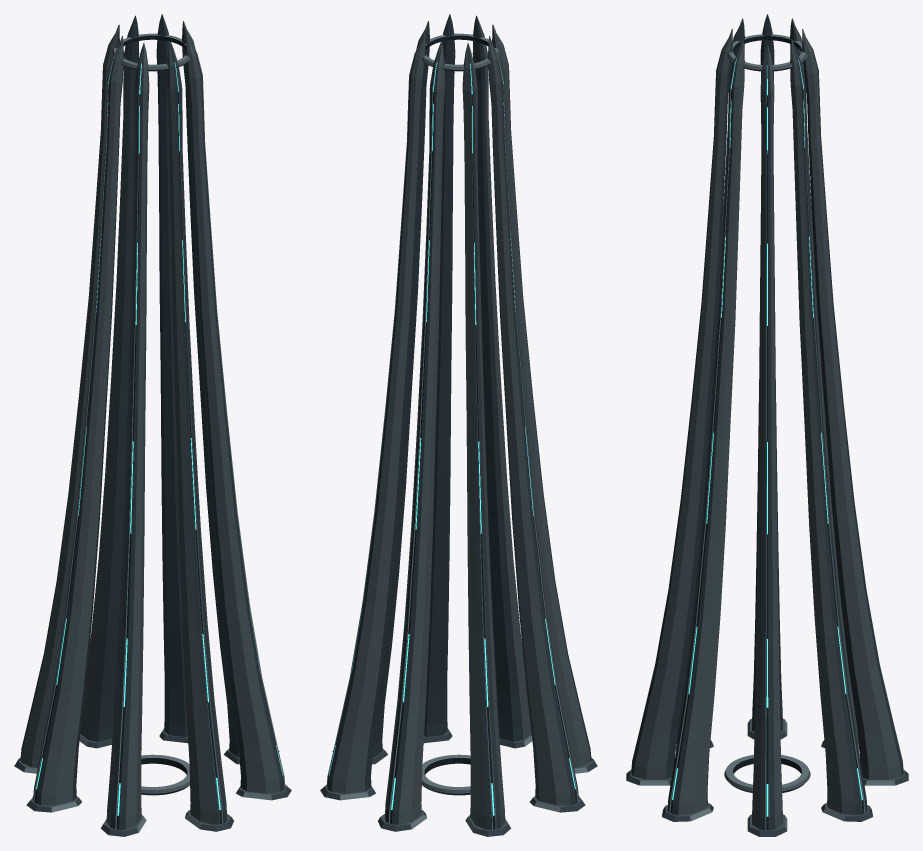
The model's file is Surface_Beam_Spire_Godot.glb.
3 views of the same model, side by side, from view 1: azimuth 30°, elevation 25°; view 2: azimuth 150°, elevation 25°; view 3: azimuth 270°, elevation 25° (orthographic).
Parts seen in each view (by area): view 1: Arm_05_Faceted_Monolith, Arm_08_Faceted_Monolith, Arm_07_Faceted_Monolith, Arm_06_Faceted_Monolith, Arm_03_Faceted_Monolith, Arm_02_Faceted_Monolith, Arm_04_Faceted_Monolith, Arm_01_Faceted_Monolith, Ground_Throat_150m_Clear, Crown_Open_Annular_Focus, Arm_06_Recessed_Teal_Channels, Arm_07_Recessed_Teal_Channels; view 2: Arm_05_Faceted_Monolith, Arm_02_Faceted_Monolith, Arm_03_Faceted_Monolith, Arm_04_Faceted_Monolith, Arm_07_Faceted_Monolith, Arm_08_Faceted_Monolith, Arm_06_Faceted_Monolith, Arm_01_Faceted_Monolith, Ground_Throat_150m_Clear, Crown_Open_Annular_Focus, Arm_04_Recessed_Teal_Channels, Arm_03_Recessed_Teal_Channels; view 3: Arm_03_Faceted_Monolith, Arm_07_Faceted_Monolith, Arm_02_Faceted_Monolith, Arm_08_Faceted_Monolith, Arm_01_Faceted_Monolith, Arm_05_Faceted_Monolith, Arm_04_Faceted_Monolith, Arm_06_Faceted_Monolith, Ground_Throat_150m_Clear, Crown_Open_Annular_Focus.
Boxes of the visible parts, x1=… form: Arm_05_Faceted_Monolith: x1=33, y1=36, x2=123, y2=805; Arm_08_Faceted_Monolith: x1=186, y1=32, x2=285, y2=793; Arm_07_Faceted_Monolith: x1=166, y1=41, x2=226, y2=824; Arm_06_Faceted_Monolith: x1=106, y1=43, x2=149, y2=829; Arm_03_Faceted_Monolith: x1=80, y1=15, x2=139, y2=741; Arm_02_Faceted_Monolith: x1=156, y1=14, x2=187, y2=736; Arm_04_Faceted_Monolith: x1=20, y1=24, x2=119, y2=767; Arm_01_Faceted_Monolith: x1=182, y1=21, x2=239, y2=757; Ground_Throat_150m_Clear: x1=141, y1=754, x2=189, y2=795; Crown_Open_Annular_Focus: x1=112, y1=33, x2=190, y2=71; Arm_06_Recessed_Teal_Channels: x1=117, y1=63, x2=141, y2=815; Arm_07_Recessed_Teal_Channels: x1=174, y1=62, x2=220, y2=809; Arm_05_Faceted_Monolith: x1=488, y1=36, x2=578, y2=805; Arm_02_Faceted_Monolith: x1=326, y1=32, x2=425, y2=793; Arm_03_Faceted_Monolith: x1=385, y1=41, x2=445, y2=824; Arm_04_Faceted_Monolith: x1=462, y1=43, x2=505, y2=829; Arm_07_Faceted_Monolith: x1=472, y1=15, x2=531, y2=741; Arm_08_Faceted_Monolith: x1=424, y1=14, x2=455, y2=736; Arm_06_Faceted_Monolith: x1=492, y1=24, x2=591, y2=767; Arm_01_Faceted_Monolith: x1=372, y1=21, x2=429, y2=757; Ground_Throat_150m_Clear: x1=422, y1=754, x2=470, y2=795; Crown_Open_Annular_Focus: x1=421, y1=33, x2=499, y2=71; Arm_04_Recessed_Teal_Channels: x1=470, y1=63, x2=494, y2=815; Arm_03_Recessed_Teal_Channels: x1=391, y1=62, x2=437, y2=809; Arm_03_Faceted_Monolith: x1=802, y1=29, x2=903, y2=779; Arm_07_Faceted_Monolith: x1=631, y1=29, x2=732, y2=779; Arm_02_Faceted_Monolith: x1=790, y1=39, x2=867, y2=815; Arm_08_Faceted_Monolith: x1=667, y1=39, x2=744, y2=815; Arm_01_Faceted_Monolith: x1=752, y1=44, x2=782, y2=830; Arm_05_Faceted_Monolith: x1=752, y1=14, x2=782, y2=731; Arm_04_Faceted_Monolith: x1=790, y1=18, x2=858, y2=743; Arm_06_Faceted_Monolith: x1=676, y1=18, x2=744, y2=743; Ground_Throat_150m_Clear: x1=724, y1=755, x2=810, y2=792; Crown_Open_Annular_Focus: x1=727, y1=34, x2=807, y2=71.
Bounding box in the file's own units: 616 × 1800 × 616.
